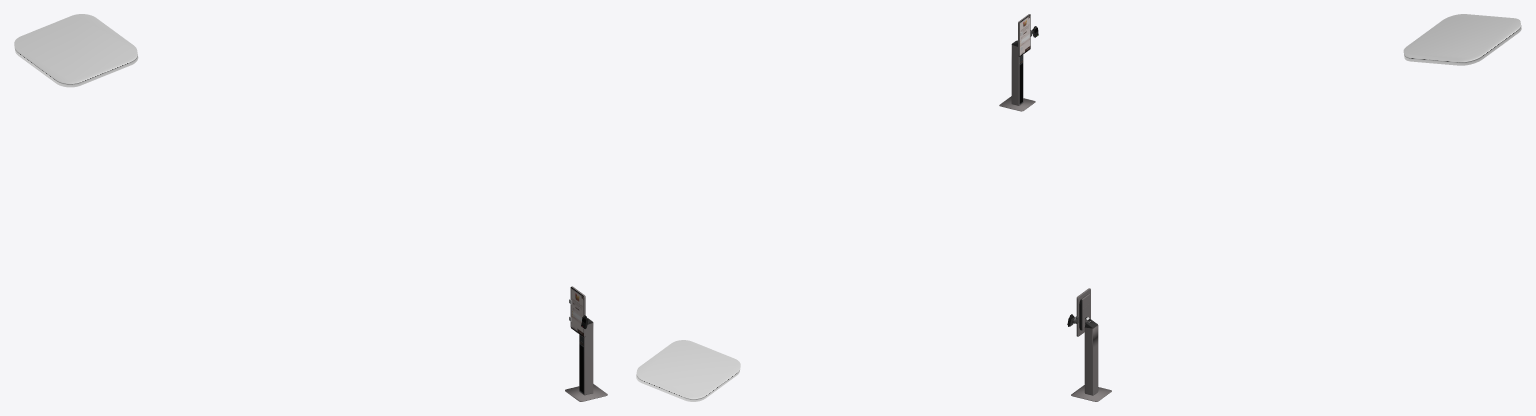
The model's file is BORNE_SUNMI.glb.
3 renders of one model, left to right at view 1: azimuth 30°, elevation 25°; view 2: azimuth 150°, elevation 25°; view 3: azimuth 330°, elevation 25°, orthographic. The views are drawn at different scales.
Visible parts, largest first — view 1: Cube.007, pieds.001, ecran_1.001; view 2: Cube.007, pieds.001, ecran_1.001; view 3: Cube.007, pieds.001.
Boxes of the visible parts, x1,y1,x2,y2 form: Cube.007: (14, 14, 138, 87); pieds.001: (579, 318, 593, 395); ecran_1.001: (570, 287, 583, 336); Cube.007: (636, 340, 740, 401); pieds.001: (1011, 40, 1023, 105); ecran_1.001: (1019, 14, 1030, 56); Cube.007: (1403, 14, 1521, 65); pieds.001: (1084, 319, 1098, 395).
Size of the model in its own units: 4.49 by 3.9 by 33.48.
41 materials, 14 textured.
